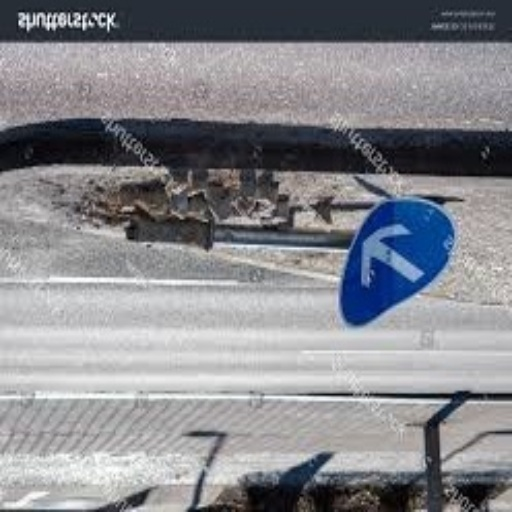Keep left: (296, 165, 467, 331)
